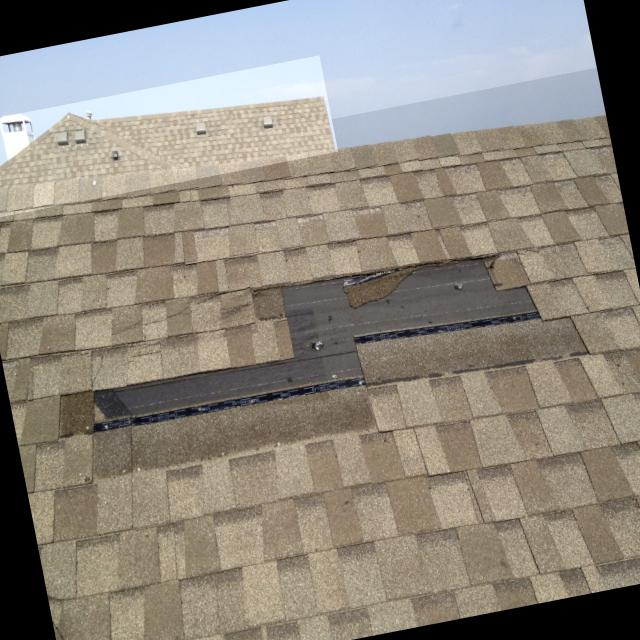House: (0, 67, 640, 640), (0, 55, 338, 221)
